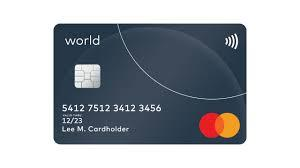payment_card: (53, 23, 246, 144)
